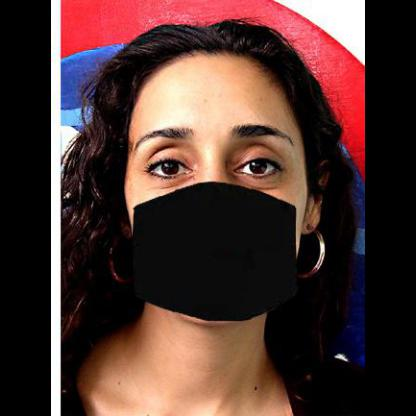Fabric/Cloth Mask: (127, 106, 301, 298)
